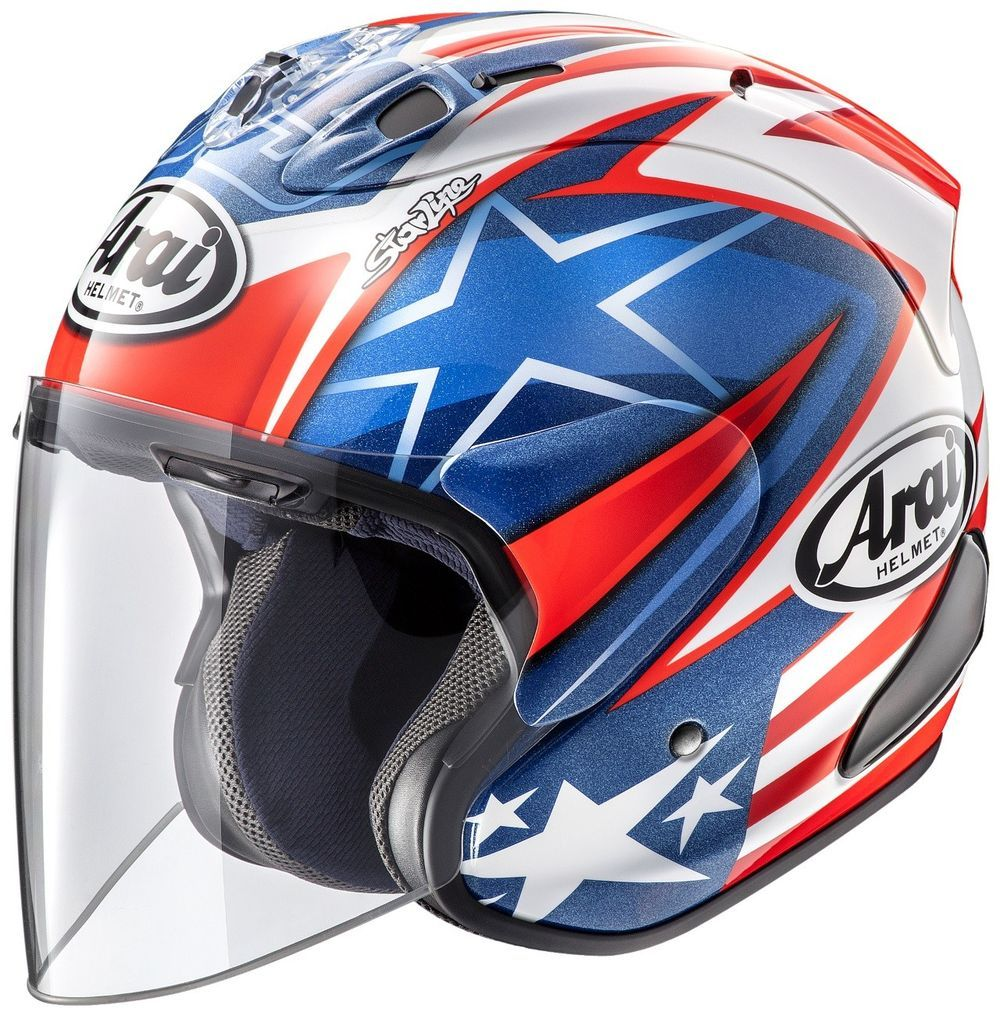helmet: (22, 1, 995, 1000)
